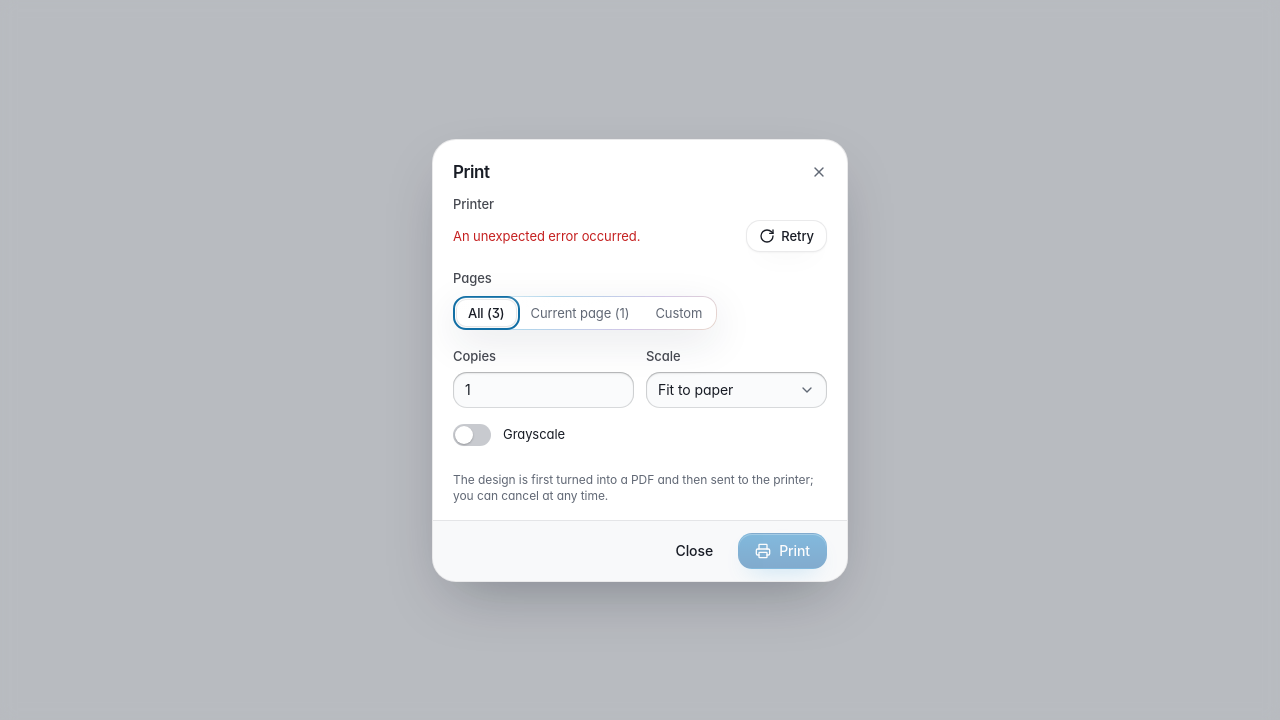
it: StudioPrintDialog › offers a retry when the printers cannot be listed
The image size is (1280, 720).
Click the button "Retry": [787, 236] box left=746, top=220, right=827, bottom=252
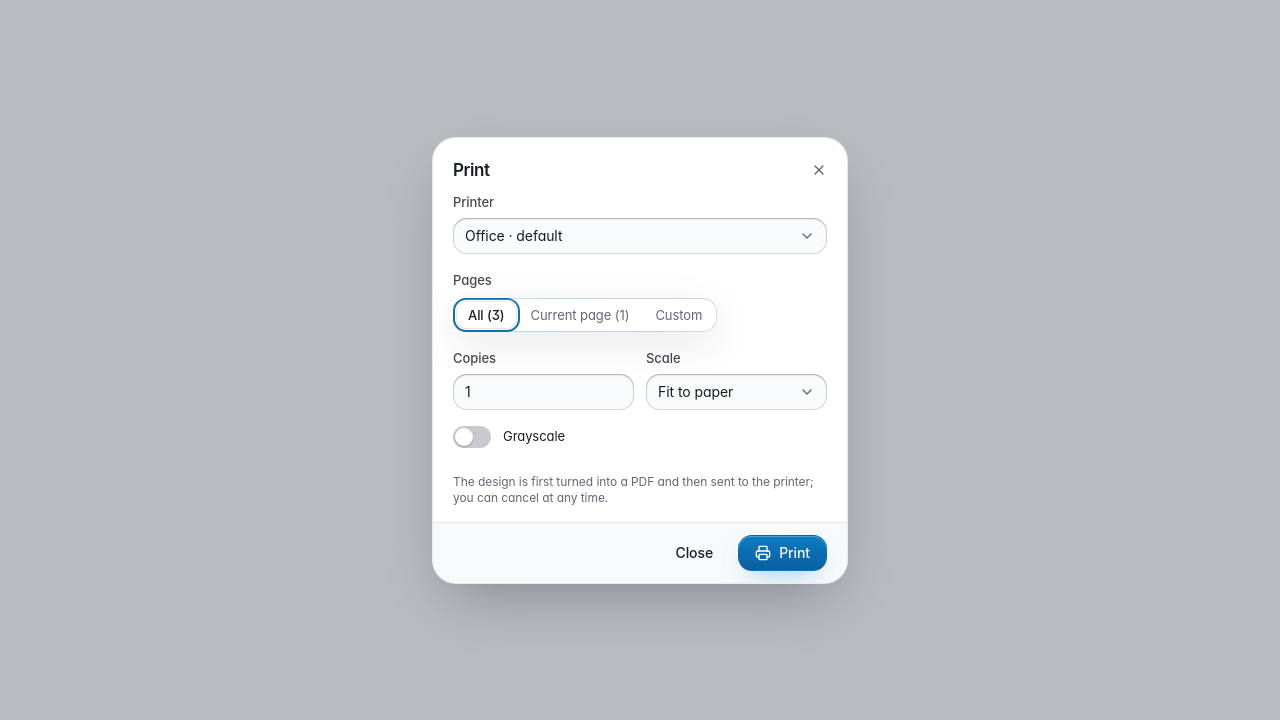
Result: the dropdown named "Printer" is shown at left=453, top=218, right=827, bottom=254
